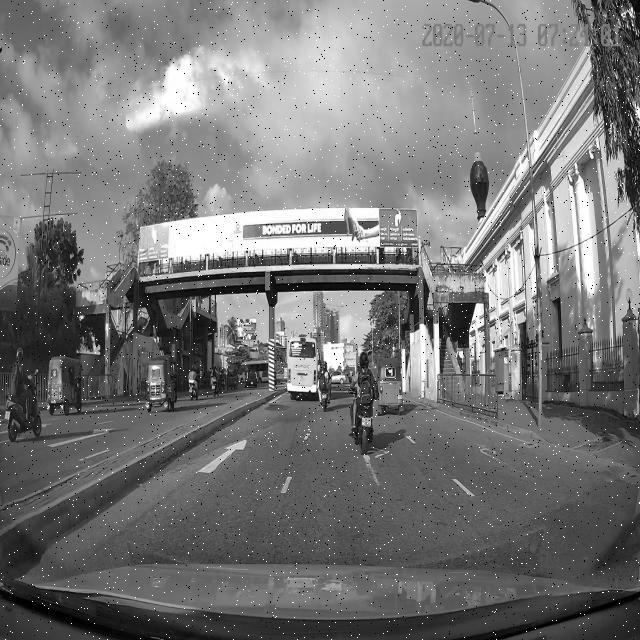forward: (154, 428, 309, 495)
